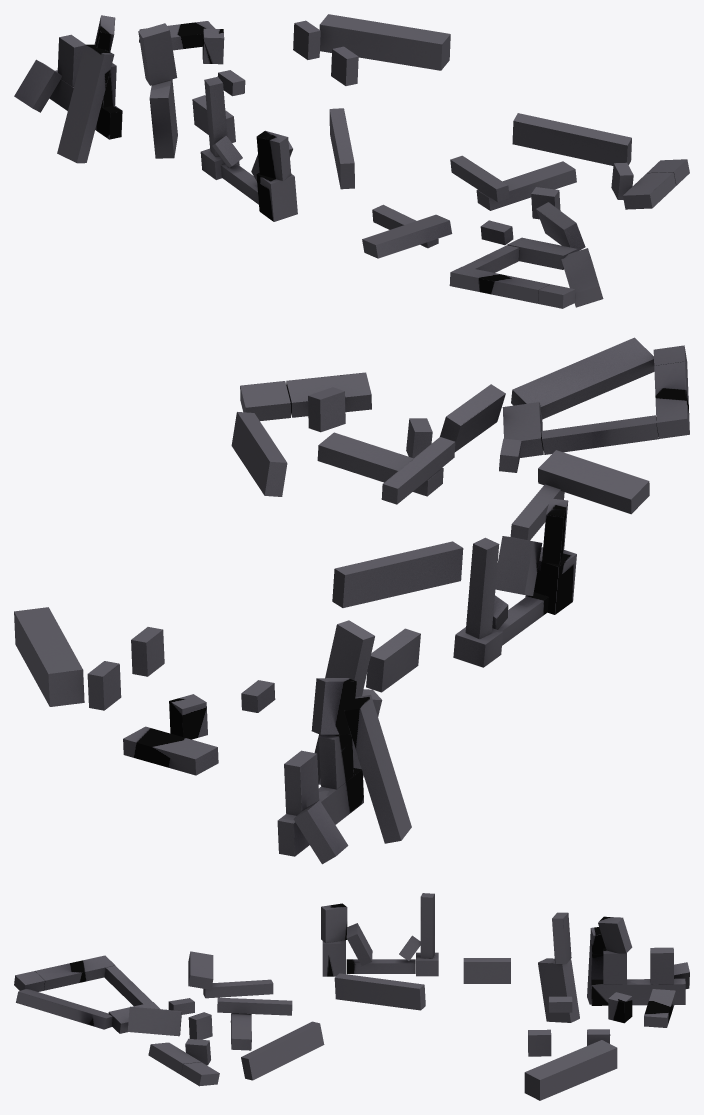
File: stonehenge-state2.obj
3 renders of one model, top to bottom at view 1: azimuth 30°, elevation 25°; view 2: azimuth 150°, elevation 25°; view 3: azimuth 270°, elevation 25°, orthographic. The views are drawn at different scales.
Visible parts, largest first — view 1: Stonehenge_East2; view 2: Stonehenge_East2; view 3: Stonehenge_East2.
Boxes of the visible parts, x1,y1,x2,y2 form: Stonehenge_East2: (14,14,689,308); Stonehenge_East2: (14,337,689,864); Stonehenge_East2: (14,893,689,1100).
Size of the model in its own units: 30.49 by 11.38 by 57.71.
